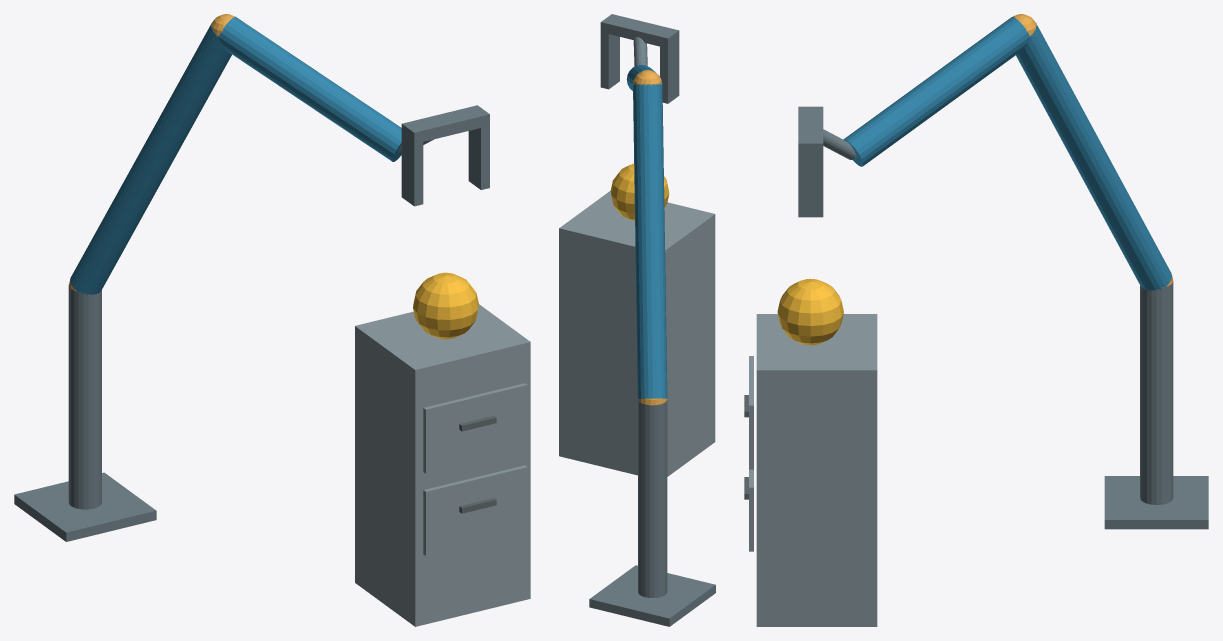
3 renders of one model, left to right at view 1: azimuth 30°, elevation 25°; view 2: azimuth 150°, elevation 25°; view 3: azimuth 270°, elevation 25°, orthographic. The views are drawn at different scales.
Visible parts, largest first — view 1: cabinet_1 body, moving link 1, fixed post, moving link 2, cabinet_1 drawer front, cabinet_1 drawer front.001, pedestal, ball ball_1, gripper bridge, gripper finger -1, gripper finger 1; view 2: cabinet_1 body, moving link 1, fixed post, pedestal, gripper bridge, ball ball_1, gripper finger -1, gripper finger 1, gripper wrist connector, joint 2, moving link 2; view 3: cabinet_1 body, moving link 1, fixed post, moving link 2, pedestal, ball ball_1, gripper finger 1, gripper bridge.
Part boxes in pixels (x1,y1,x2,y2): cabinet_1 body: [355, 304, 530, 626]; moving link 1: [70, 23, 231, 294]; fixed post: [68, 285, 101, 509]; moving link 2: [219, 16, 401, 161]; cabinet_1 drawer front: [423, 465, 527, 555]; cabinet_1 drawer front.001: [423, 383, 527, 473]; pedestal: [14, 472, 156, 541]; ball ball_1: [413, 272, 478, 339]; gripper bridge: [401, 105, 489, 143]; gripper finger -1: [401, 135, 423, 206]; gripper finger 1: [468, 126, 489, 189]; cabinet_1 body: [559, 191, 715, 476]; moving link 1: [633, 84, 667, 399]; fixed post: [638, 399, 667, 597]; pedestal: [589, 565, 715, 626]; gripper bridge: [600, 14, 679, 48]; ball ball_1: [610, 163, 669, 221]; gripper finger -1: [660, 41, 679, 103]; gripper finger 1: [600, 32, 619, 89]; gripper wrist connector: [633, 37, 647, 66]; joint 2: [633, 70, 661, 86]; moving link 2: [626, 64, 662, 90]; cabinet_1 body: [756, 314, 877, 626]; moving link 1: [1016, 22, 1171, 290]; fixed post: [1140, 282, 1173, 504]; moving link 2: [843, 17, 1029, 166]; pedestal: [1104, 476, 1208, 529]; ball ball_1: [777, 278, 843, 345]; gripper finger 1: [798, 155, 823, 217]; gripper bridge: [798, 106, 823, 154].
Bounding box in the file's own units: 0.8043 × 1.4 × 1.12.
